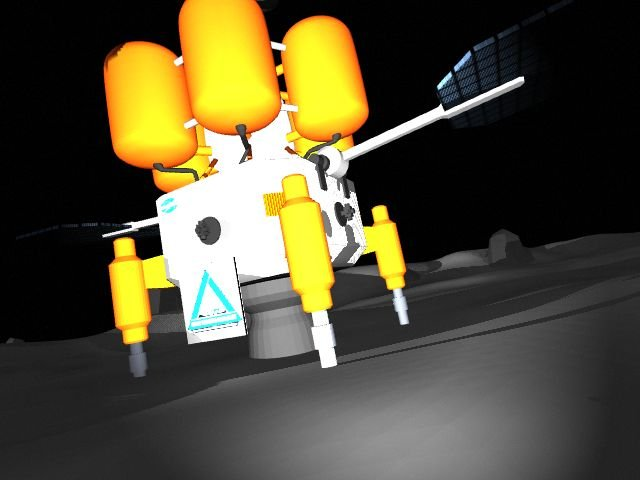basemarker: (186, 268, 244, 337)
